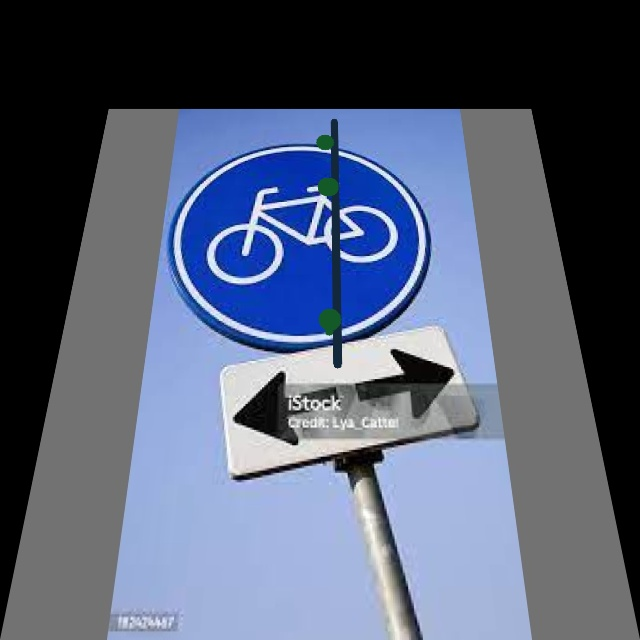Compulsory_Cycle_Track: (163, 144, 442, 321)
